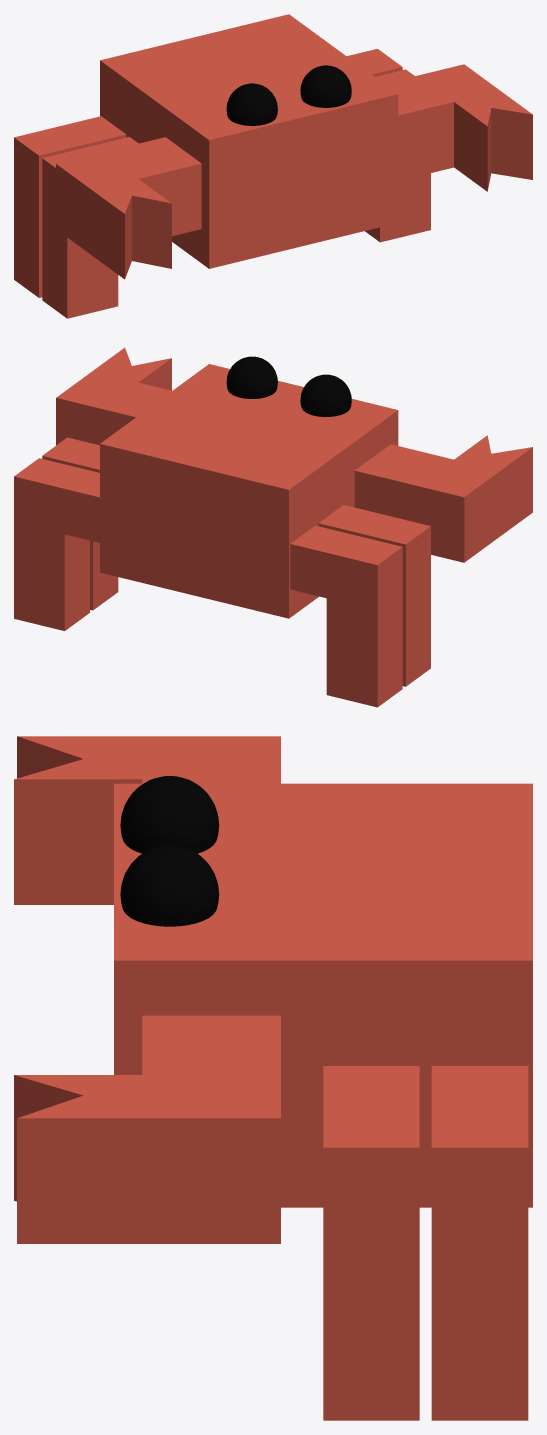
Rendered from enemy.obj.
The picture shows the model from 3 angles, top to bottom: view 1: azimuth 30°, elevation 25°; view 2: azimuth 150°, elevation 25°; view 3: azimuth 270°, elevation 25°; orthographic projection. The views are drawn at different scales.
Visible parts, largest first — view 1: 立方体.002; view 2: 立方体.002; view 3: 立方体.002.
Part boxes in pixels (x1,y1,x2,y2): 立方体.002: (14,14,532,318); 立方体.002: (14,347,532,707); 立方体.002: (14,736,532,1420).
Bounding box in the file's own units: 1.56 × 0.8302 × 0.8968.
Materials: 1 (1 with a texture image).
